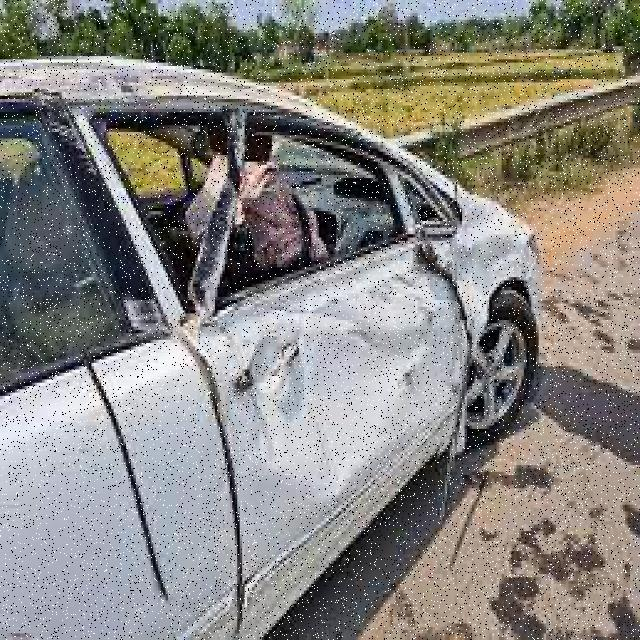doorouter-dent: (220, 247, 464, 604)
fender-dent: (435, 188, 536, 346)
pillar-dent: (32, 69, 168, 350), (378, 116, 422, 291)
roof-dent: (0, 60, 319, 106)
